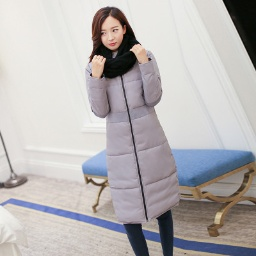face: (92, 7, 130, 54)
